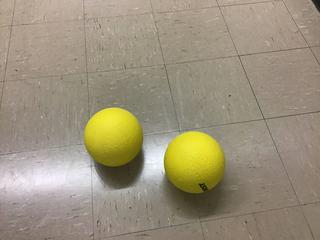power_cell: (161, 126, 230, 198), (81, 102, 142, 164)
